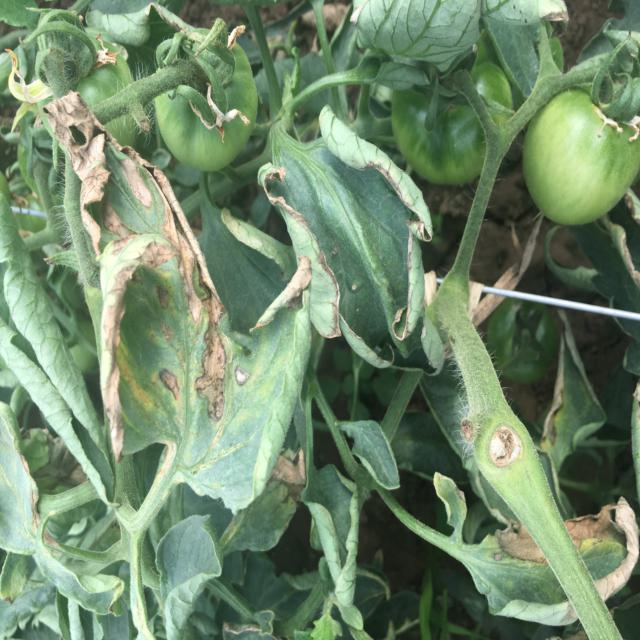Late_blight: (41, 87, 246, 462), (498, 495, 640, 613), (257, 248, 312, 334), (257, 160, 312, 232), (315, 246, 347, 340), (265, 447, 311, 503), (359, 157, 409, 208)
